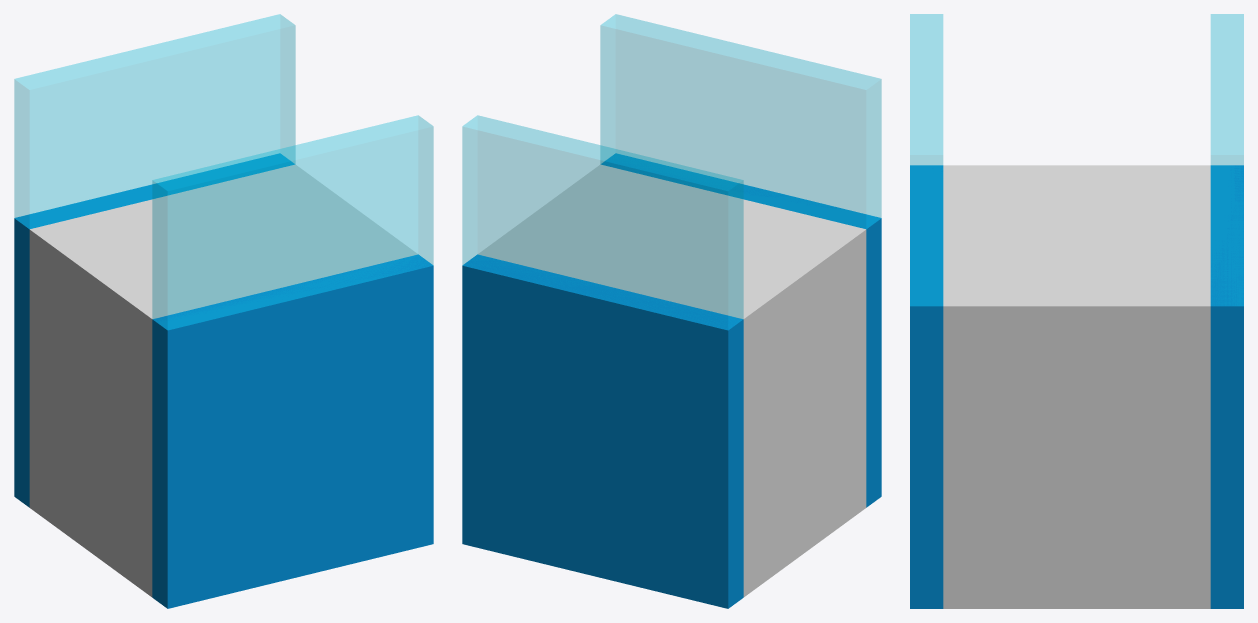
The picture shows the model from 3 angles, left to right: view 1: azimuth 30°, elevation 25°; view 2: azimuth 150°, elevation 25°; view 3: azimuth 270°, elevation 25°; orthographic projection. The views are drawn at different scales.
Visible parts, largest first — view 1: 立方体.001, 立方体, 立方体.002; view 2: 立方体.001, 立方体.002, 立方体; view 3: 立方体.001, 立方体, 立方体.002.
Boxes of the visible parts, box(x1,y1,x2,y2) form: 立方体.001: box(14, 153, 433, 608); 立方体: box(152, 115, 433, 329); 立方体.002: box(14, 14, 295, 228); 立方体.001: box(462, 153, 881, 608); 立方体.002: box(462, 115, 743, 329); 立方体: box(600, 14, 881, 228); 立方体.001: box(910, 165, 1243, 608); 立方体: box(910, 14, 942, 305); 立方体.002: box(1211, 14, 1243, 305).
Size of the model in its own units: 2000 by 3000 by 2000.
